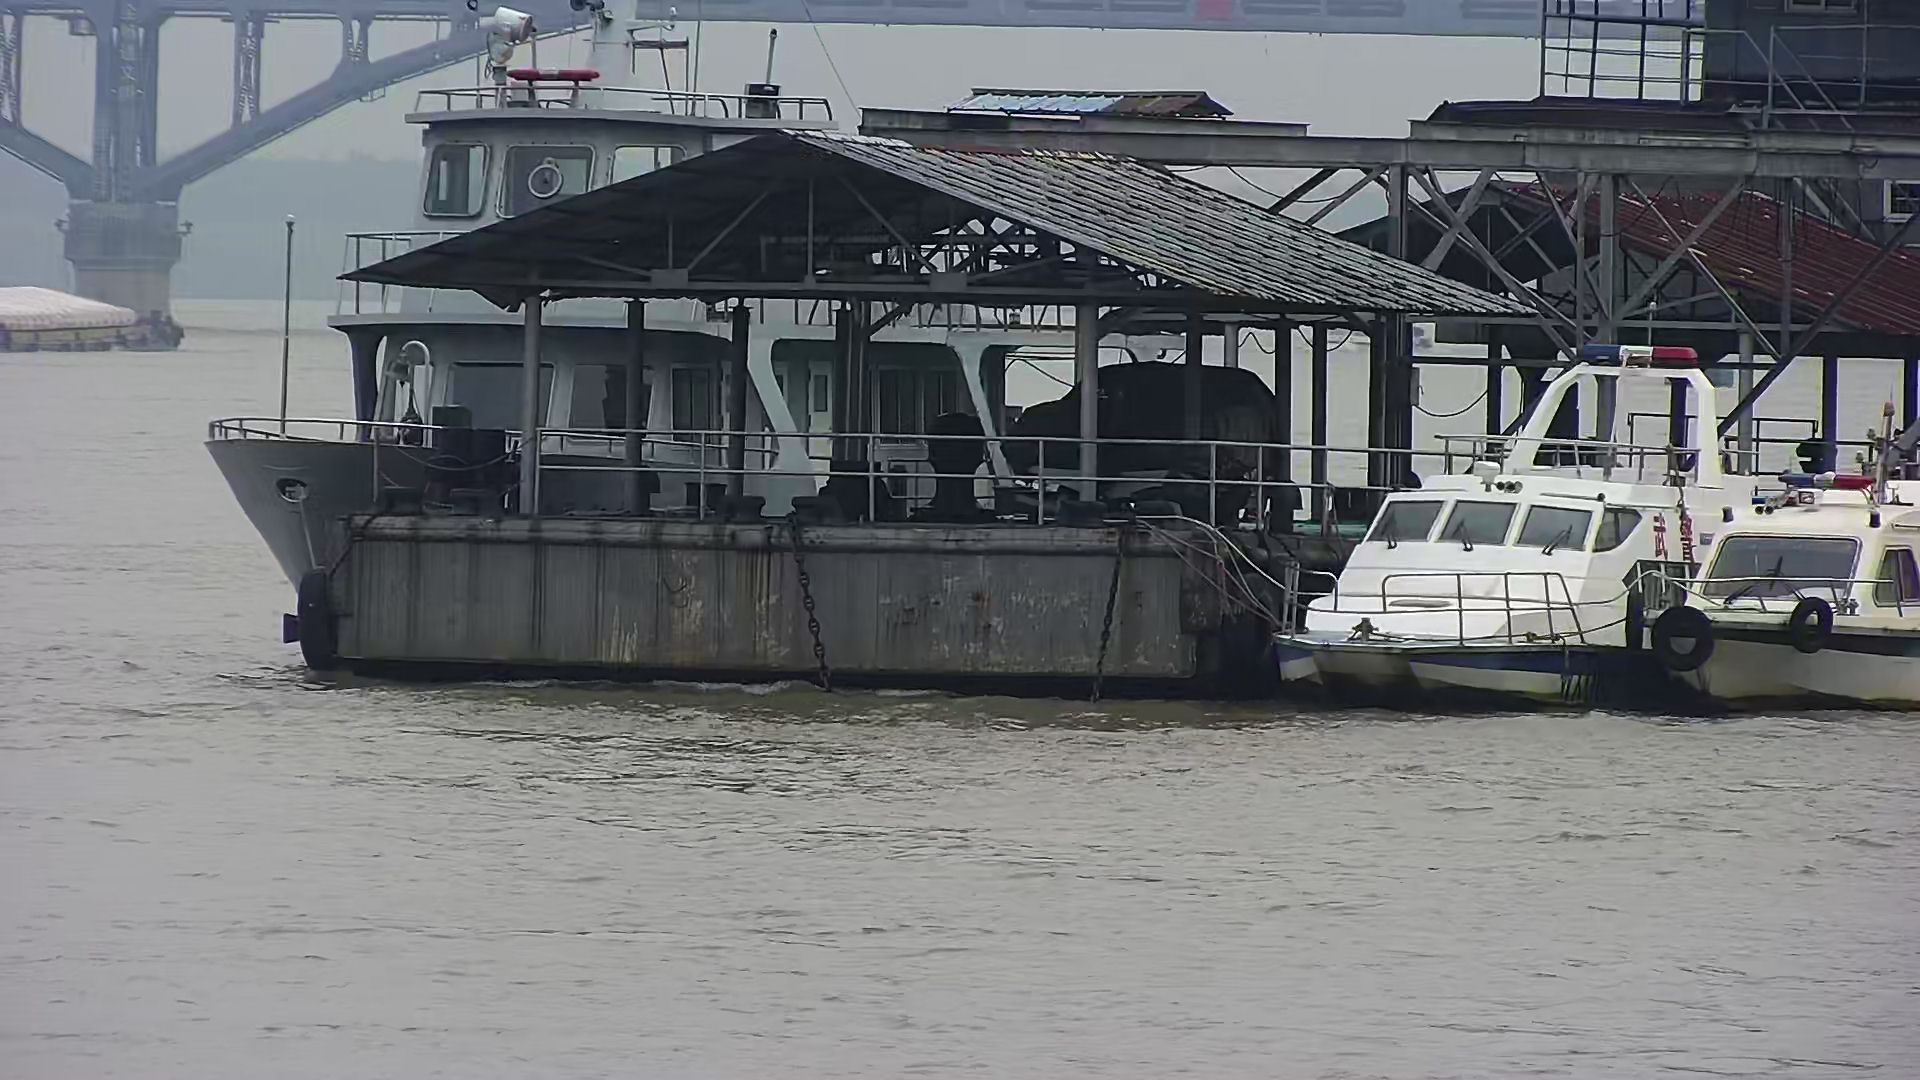boat: (1251, 335, 1754, 694), (1643, 442, 1920, 723)
bridge: (1, 1, 596, 311)
harbor: (305, 100, 1528, 684)
ship: (202, 1, 1166, 607), (1, 280, 200, 349)
